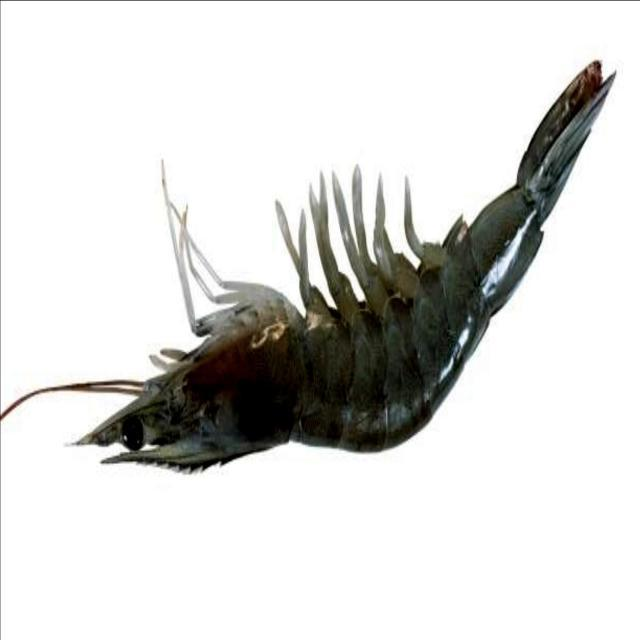shrimp: (31, 62, 614, 471)
